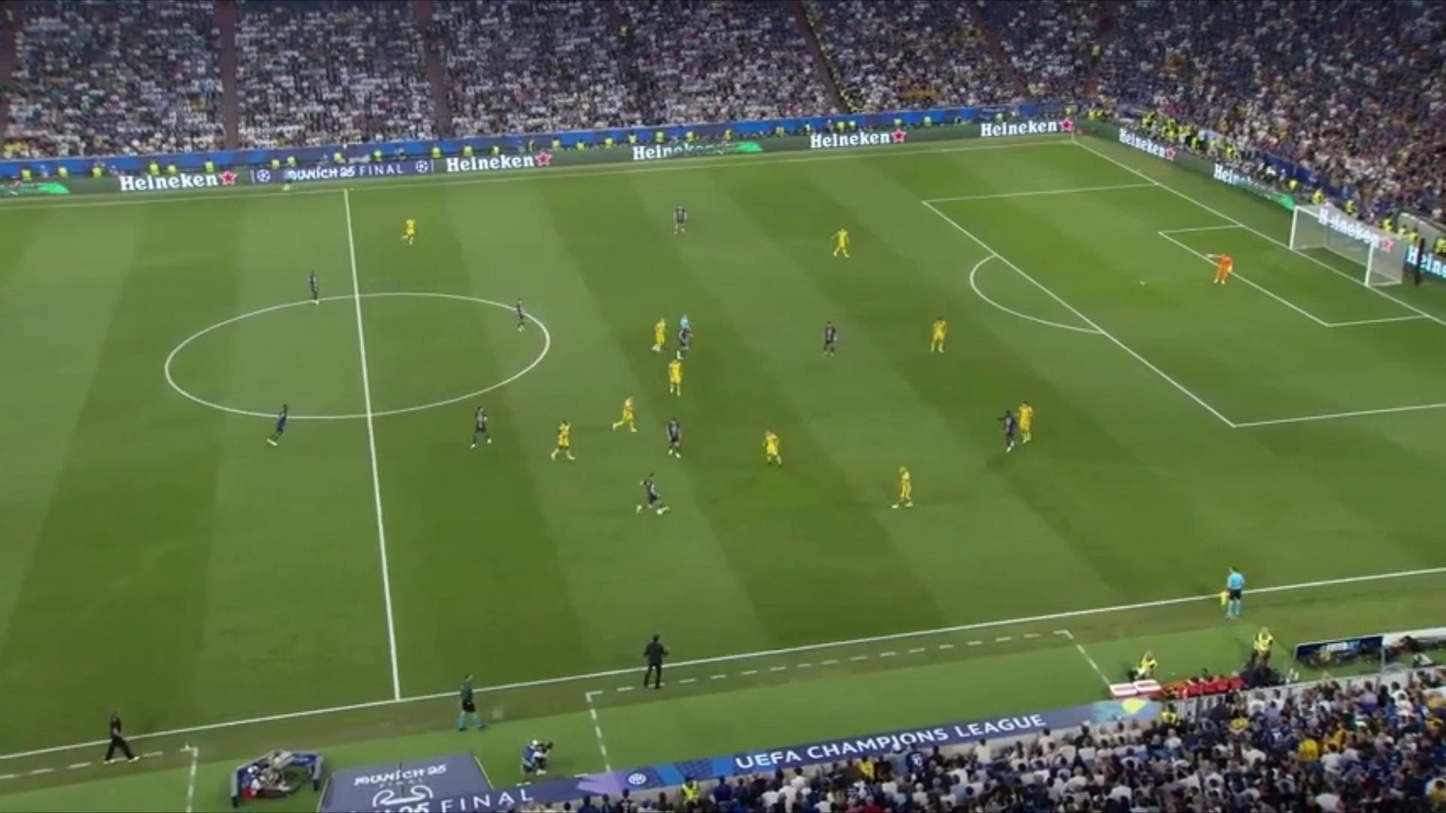ball: (659, 503, 672, 516)
player_A: (264, 401, 293, 450), (471, 405, 493, 454), (636, 470, 662, 510), (667, 415, 688, 459), (997, 408, 1018, 451), (509, 294, 531, 335), (821, 318, 843, 358), (306, 269, 327, 307), (673, 202, 689, 237), (678, 326, 690, 356)
player_B: (890, 462, 920, 510), (757, 426, 788, 470), (611, 391, 638, 433), (553, 418, 575, 463), (830, 225, 856, 262), (1018, 399, 1038, 445), (666, 356, 685, 396), (928, 315, 948, 353), (399, 214, 421, 248), (652, 317, 669, 354)
player_B_goal_keeper: (1207, 249, 1235, 285)
referee: (1219, 563, 1247, 621), (282, 168, 297, 194), (679, 311, 691, 331)
